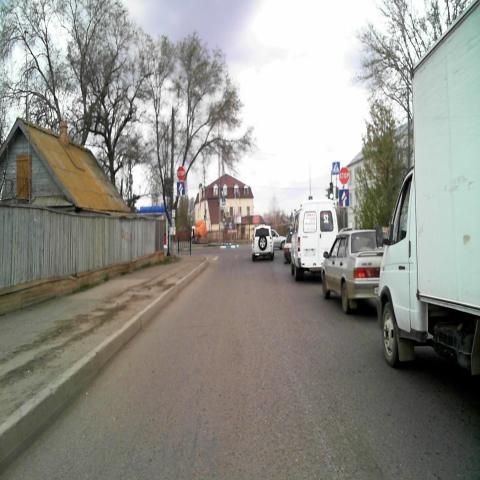2_5: (340, 166, 349, 184)
5_6: (177, 180, 185, 196)
